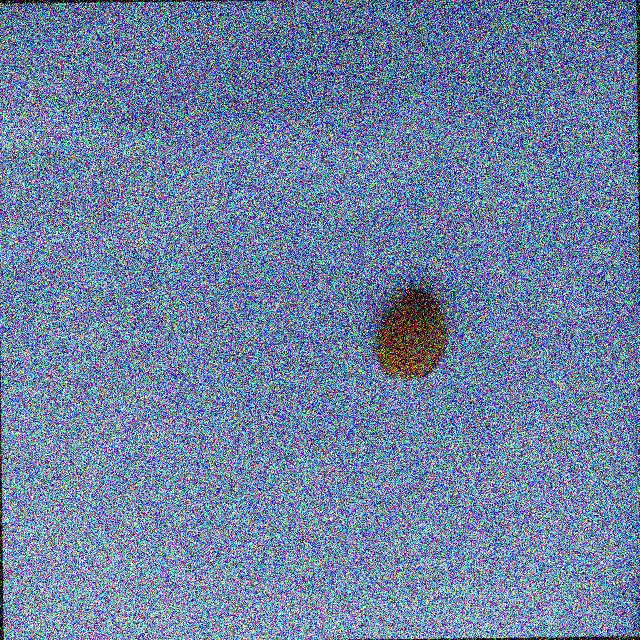grade2: (369, 286, 450, 382)
